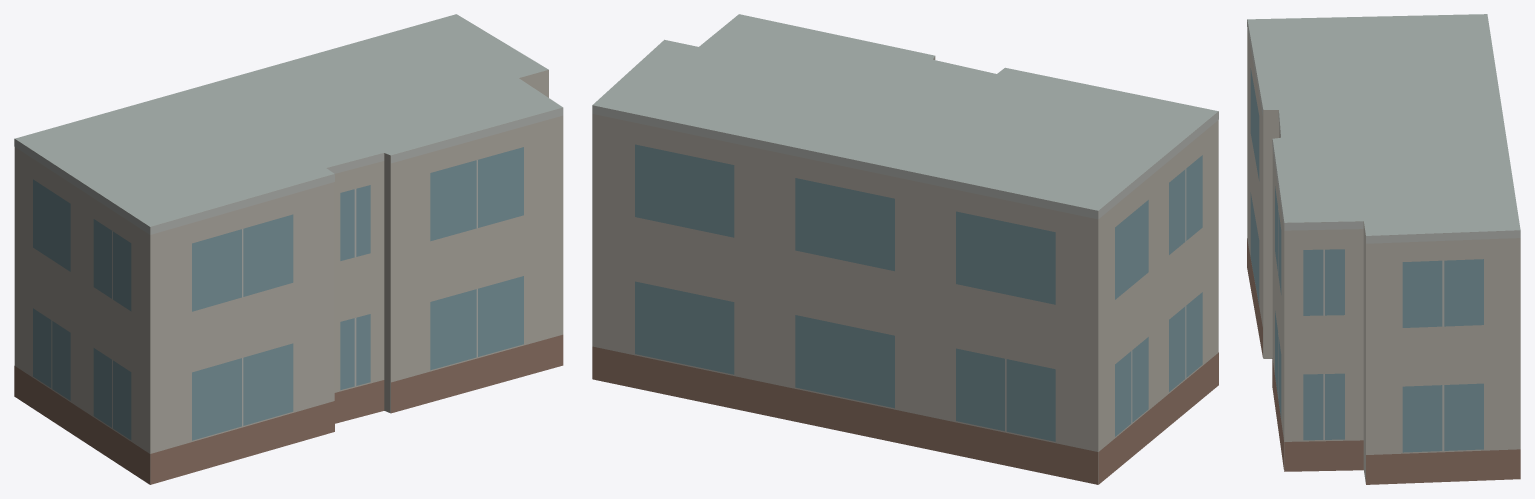
Rendered from survey-upis-32725167.glb.
The picture shows the model from 3 angles, left to right: view 1: azimuth 30°, elevation 25°; view 2: azimuth 150°, elevation 25°; view 3: azimuth 270°, elevation 25°; orthographic projection. The views are drawn at different scales.
Visible parts, largest first — view 1: survey-upis-32725167.tmp; view 2: survey-upis-32725167.tmp; view 3: survey-upis-32725167.tmp.
Part boxes in pixels (box(x1,y1,x2,y2)): survey-upis-32725167.tmp: box(14, 14, 563, 484); survey-upis-32725167.tmp: box(592, 14, 1218, 484); survey-upis-32725167.tmp: box(1247, 14, 1520, 484).
Size of the model in its own units: 14.93 by 7.8 by 7.77.
